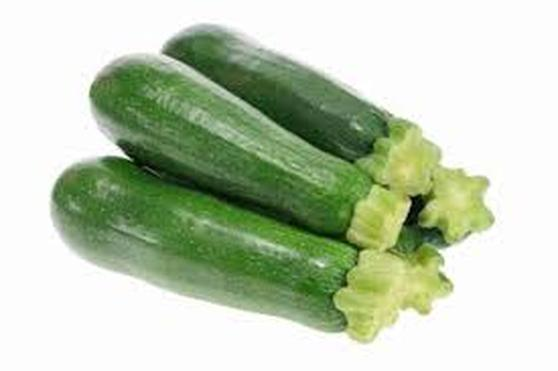zucchini: (42, 163, 414, 342)
